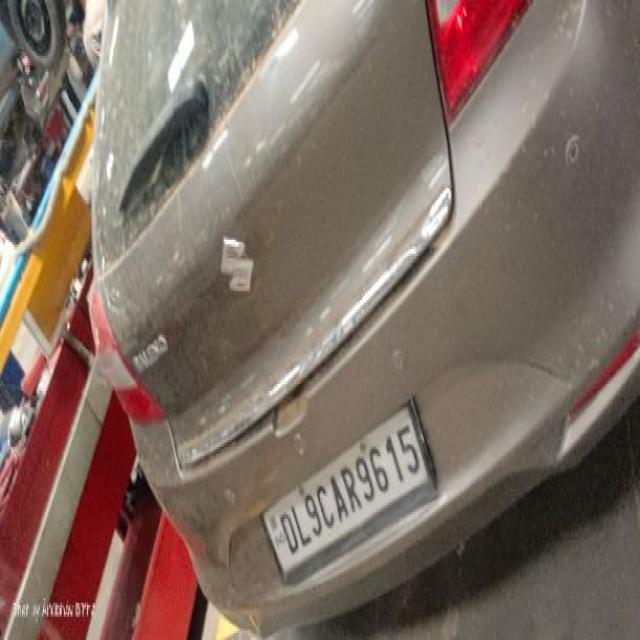license_plate: (259, 393, 436, 580)
